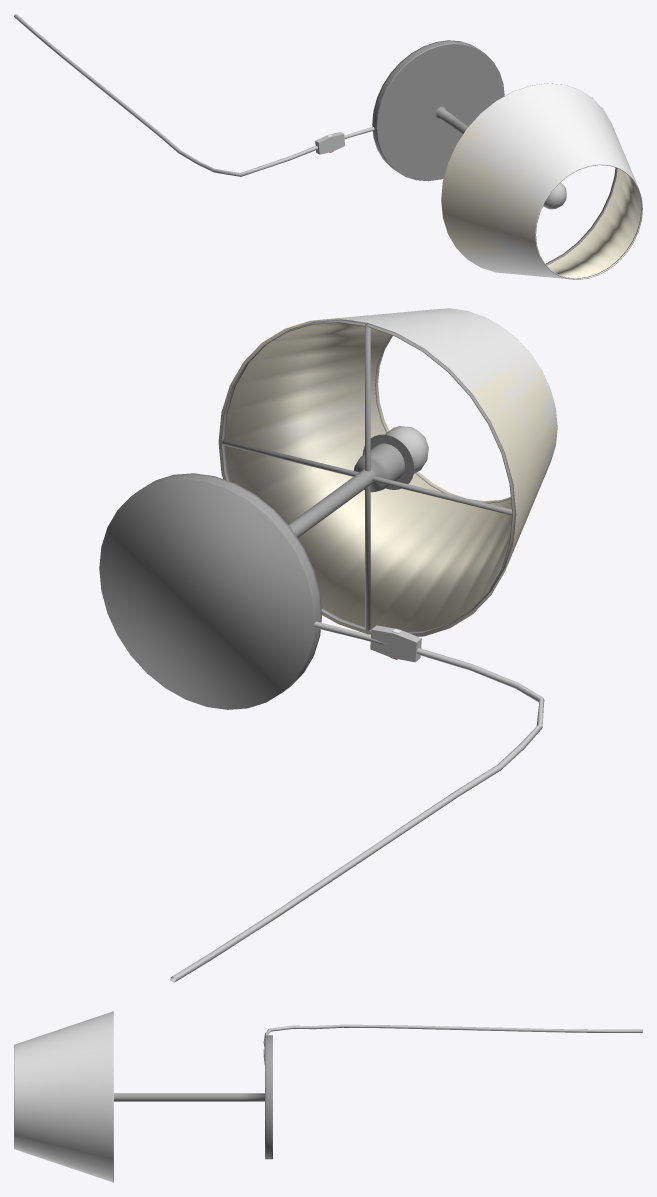
File: Lamp.fbx
The picture shows the model from 3 angles, top to bottom: view 1: azimuth 30°, elevation 25°; view 2: azimuth 150°, elevation 25°; view 3: azimuth 270°, elevation 25°; orthographic projection. The views are drawn at different scales.
Parts seen in each view (by area): view 1: DomeOff, DomeOn, Lamp, Wire, Switcher, Part5, Part6, Part3; view 2: DomeOn, Lamp, DomeOff, Wire, Part3, Part1, Part2, Switcher, Part6; view 3: DomeOff, Lamp, Wire.
Boxes of the visible parts, x1,y1,x2,y2 form: DomeOff: (442, 83, 642, 279); DomeOn: (441, 113, 641, 278); Lamp: (372, 40, 504, 181); Wire: (14, 14, 374, 176); Switcher: (315, 132, 344, 154); Part5: (535, 164, 642, 279); Part6: (543, 182, 566, 209); Part3: (545, 168, 617, 265); DomeOn: (218, 318, 557, 636); Lamp: (99, 443, 404, 709); DomeOff: (219, 308, 556, 613); Wire: (170, 621, 544, 982); Part3: (221, 319, 515, 634); Part1: (221, 439, 512, 515); Part2: (365, 323, 370, 630); Switcher: (370, 625, 421, 662); Part6: (385, 426, 428, 473); DomeOff: (14, 1011, 113, 1182); Lamp: (114, 1035, 272, 1159); Wire: (263, 1024, 642, 1046).
Bounding box in the file's own units: 0.4924 × 0.2865 × 1.05.
